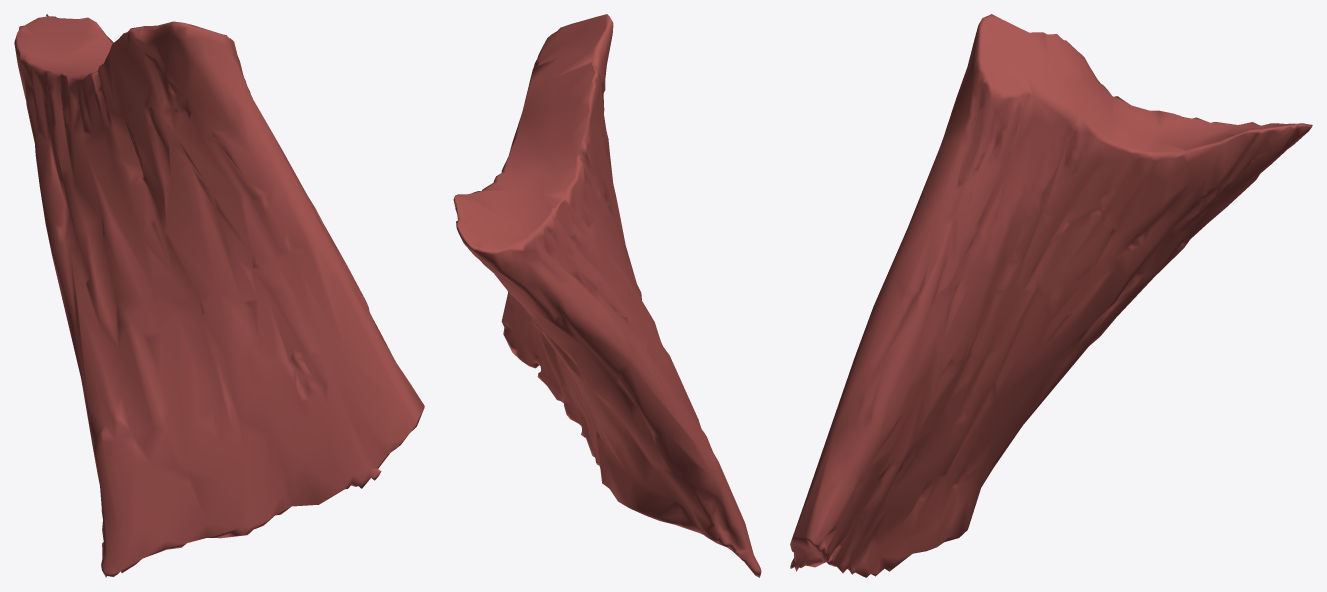
Rendered from FMA46317.glb.
3 views of the same model, side by side, from view 1: azimuth 30°, elevation 25°; view 2: azimuth 150°, elevation 25°; view 3: azimuth 270°, elevation 25° (orthographic). The views are drawn at different scales.
Parts seen in each view (by area): view 1: FMA46317; view 2: FMA46317; view 3: FMA46317.
Part boxes in pixels (x1,y1,x2,y2): FMA46317: (14, 14, 424, 577); FMA46317: (453, 14, 761, 577); FMA46317: (790, 14, 1312, 577).
Bounding box in the file's own units: 0.012 × 0.0209 × 0.0169.
